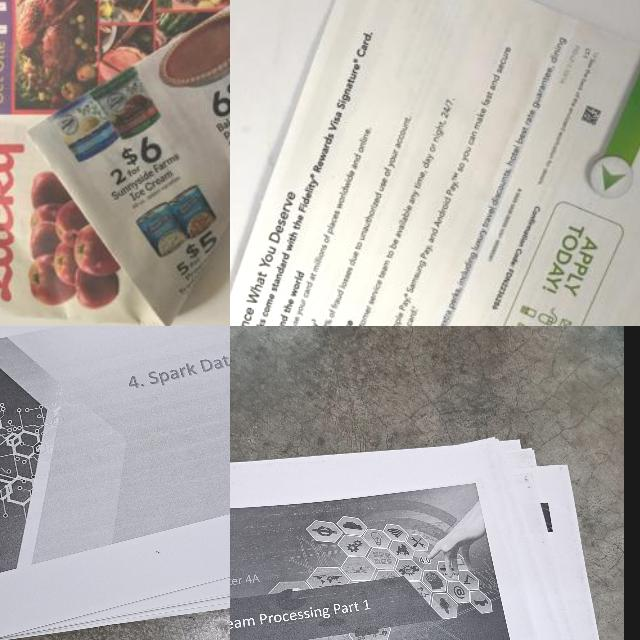papel: (230, 0, 640, 326), (230, 436, 609, 640), (0, 0, 230, 325), (0, 326, 230, 640)
